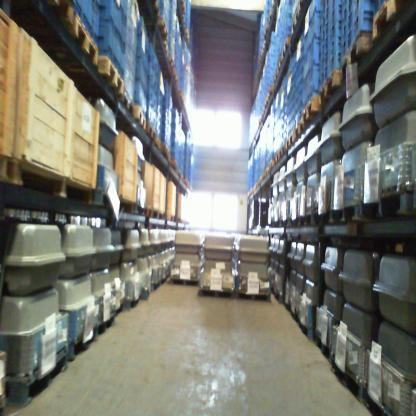pallet: (6, 346, 68, 406), (359, 185, 416, 220), (10, 159, 60, 196), (338, 32, 371, 85), (371, 4, 411, 46), (331, 355, 365, 402), (70, 11, 98, 67), (97, 55, 124, 95), (68, 323, 95, 361), (60, 177, 95, 205), (316, 70, 338, 107), (330, 197, 359, 224), (367, 391, 395, 416), (315, 325, 332, 361), (44, 0, 73, 21), (301, 94, 320, 122), (95, 188, 117, 209), (95, 314, 115, 336), (199, 287, 235, 299), (235, 290, 271, 302), (133, 105, 146, 130), (300, 320, 315, 341), (0, 153, 10, 183), (157, 16, 169, 41), (121, 93, 134, 113), (312, 210, 330, 224), (118, 198, 134, 213), (170, 277, 200, 285), (291, 8, 300, 34), (282, 35, 291, 60), (112, 301, 125, 318), (293, 120, 305, 138), (146, 121, 156, 141), (125, 296, 139, 309), (285, 132, 295, 149), (135, 201, 146, 216), (291, 309, 301, 325), (152, 0, 160, 18), (300, 214, 312, 226), (161, 143, 170, 157), (154, 136, 162, 149), (289, 217, 300, 226), (168, 56, 175, 70), (279, 145, 286, 158), (272, 153, 279, 165), (280, 218, 289, 227), (164, 41, 169, 56), (145, 208, 153, 217), (268, 159, 273, 171), (265, 166, 270, 176)
small_load_carrier: (100, 18, 118, 58), (82, 0, 100, 37), (99, 0, 119, 32), (308, 11, 321, 44), (308, 37, 320, 71), (308, 64, 319, 94), (116, 32, 125, 68), (309, 0, 321, 23), (119, 7, 126, 45), (148, 43, 155, 69), (146, 99, 153, 121), (303, 29, 308, 59), (147, 81, 153, 105), (119, 0, 126, 20), (153, 68, 158, 96), (303, 74, 308, 101), (148, 63, 153, 88), (153, 56, 159, 76), (303, 57, 308, 81), (152, 103, 157, 126), (153, 88, 157, 113), (76, 1, 83, 10)
